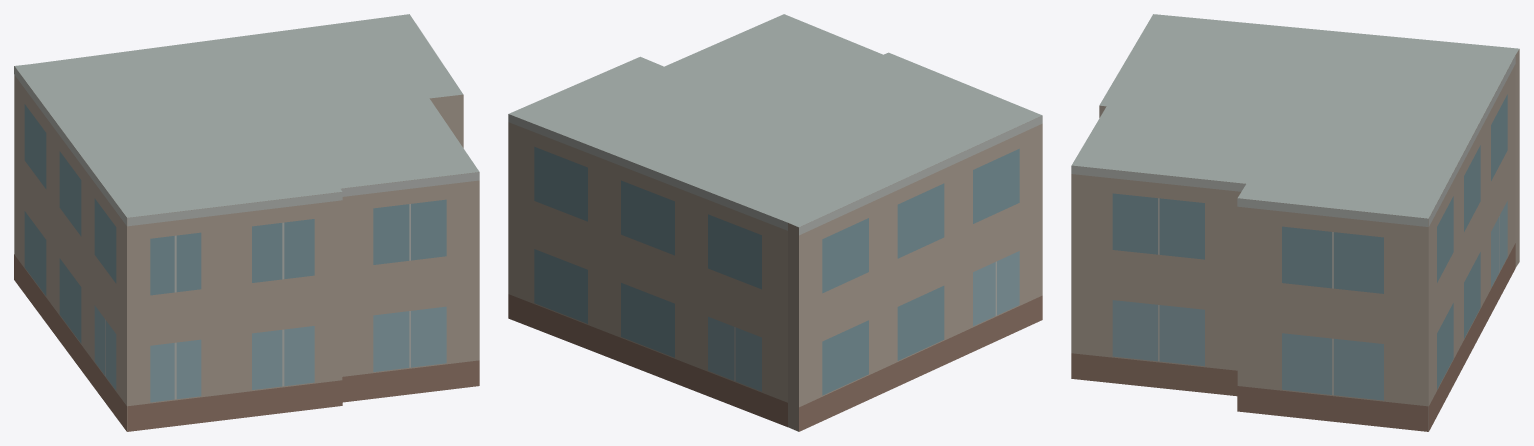
File: survey-upis-32810813.glb
3 views of the same model, side by side, from view 1: azimuth 30°, elevation 25°; view 2: azimuth 150°, elevation 25°; view 3: azimuth 270°, elevation 25° (orthographic). The views are drawn at different scales.
Visible parts, largest first — view 1: survey-upis-32810813.tmp; view 2: survey-upis-32810813.tmp; view 3: survey-upis-32810813.tmp.
Part boxes in pixels (bbox=[...]): survey-upis-32810813.tmp: bbox=[14, 14, 479, 431]; survey-upis-32810813.tmp: bbox=[508, 14, 1042, 431]; survey-upis-32810813.tmp: bbox=[1071, 14, 1519, 431].
Bounding box in the file's own units: 12.56 × 6.1 × 11.63.
